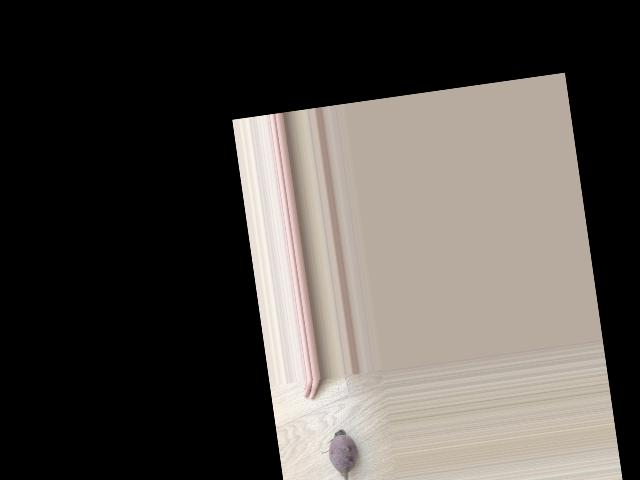beet: (318, 428, 364, 480)
